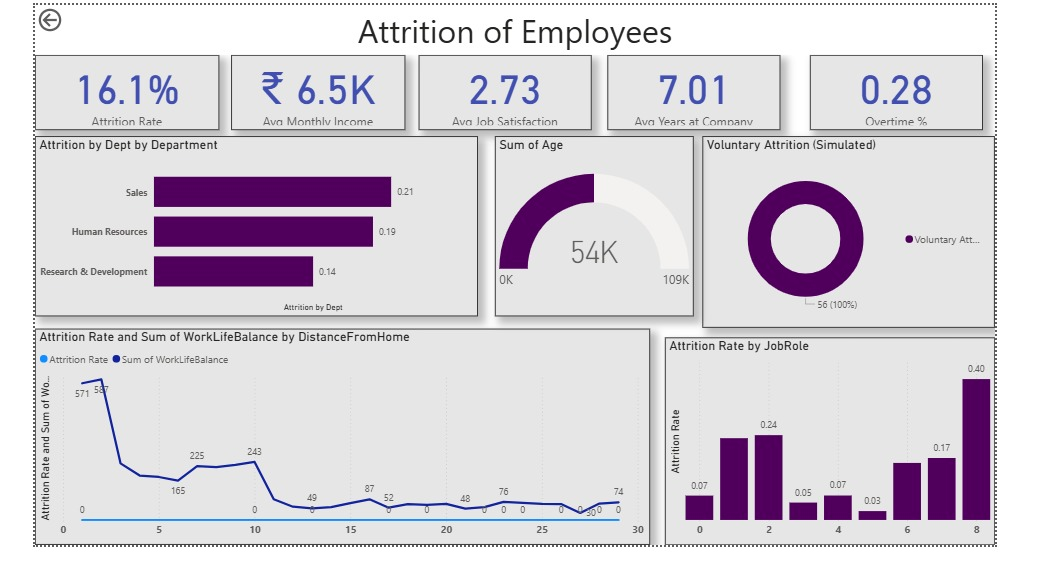

Layout of this report page (visuals, bound fields, positions):
{"tool":"powerbi","page":{"name":"Page 1","canvas":[1280,720],"ordinal":0},"visuals":[{"type":"card","fields":{"Values":["Measures (2).Attrition Rate"]},"box":[0,65.9,245.6,100.2],"z":0},{"type":"card","fields":{"Values":["Measures (2).Avg Monthly Income"]},"box":[262.1,65.9,231.9,100.2],"z":1000},{"type":"card","fields":{"Values":["Measures (2).Avg Job Satisfaction"]},"box":[511.8,65.9,230.5,100.2],"z":2000},{"type":"card","fields":{"Values":["Measures (2).Avg Years at Company"]},"box":[763,65.9,230.5,100.2],"z":3000},{"type":"card","fields":{"Values":["Measures (2).Overtime %"]},"box":[1033.3,65.9,230.5,100.2],"z":4000},{"type":"barChart","fields":{"Y":["Measures (2).Attrition by Dept"],"Category":["data.Department"]},"box":[0,175,590,240],"z":5000},{"type":"donutChart","fields":{"Y":["Measures (2).Voluntary Attrition (Simulated)"]},"box":[890.6,175.6,389.7,255.2],"z":7000},{"type":"clusteredColumnChart","fields":{"Category":["data.JobRole"],"Y":["Measures (2).Attrition Rate"]},"box":[840,443.3,440,276.7],"z":7001},{"type":"textbox","box":[512,431,231,289],"z":7002},{"type":"lineChart","fields":{"Category":["data.DistanceFromHome"],"Y":["Measures (2).Attrition Rate","Sum(data.WorkLifeBalance)"]},"box":[0,431.7,820,288.3],"z":7005},{"type":"textbox","box":[0,0,1280,66.7],"z":7006},{"type":"actionButton","box":[0,0,100,40],"z":7008},{"type":"gauge","fields":{"Y":["Sum(data.Age)"]},"box":[613.3,175,265,240],"z":7009}]}

Visuals, with their boxes on the page's 1280x720 design canvas (x1, y1, x2, y2). These are canvas units, not pixel positions in the 1052x585 screenshot, which may show the page scaled, cropped or inside an application window:
card - Measures (2).Attrition Rate: bbox=(0, 66, 246, 166)
card - Measures (2).Avg Monthly Income: bbox=(262, 66, 494, 166)
card - Measures (2).Avg Job Satisfaction: bbox=(512, 66, 742, 166)
card - Measures (2).Avg Years at Company: bbox=(763, 66, 994, 166)
card - Measures (2).Overtime %: bbox=(1033, 66, 1264, 166)
barChart - Measures (2).Attrition by Dept x data.Department: bbox=(0, 175, 590, 415)
donutChart - Measures (2).Voluntary Attrition (Simulated): bbox=(891, 176, 1280, 431)
clusteredColumnChart - data.JobRole x Measures (2).Attrition Rate: bbox=(840, 443, 1280, 720)
textbox: bbox=(512, 431, 743, 720)
lineChart - data.DistanceFromHome x Measures (2).Attrition Rate: bbox=(0, 432, 820, 720)
textbox: bbox=(0, 0, 1280, 67)
actionButton: bbox=(0, 0, 100, 40)
gauge - Sum(data.Age): bbox=(613, 175, 878, 415)
